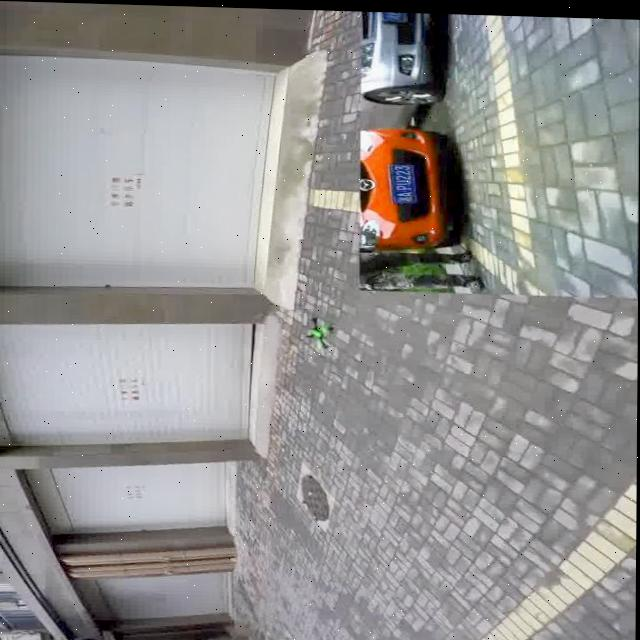drone: (302, 315, 340, 348)
